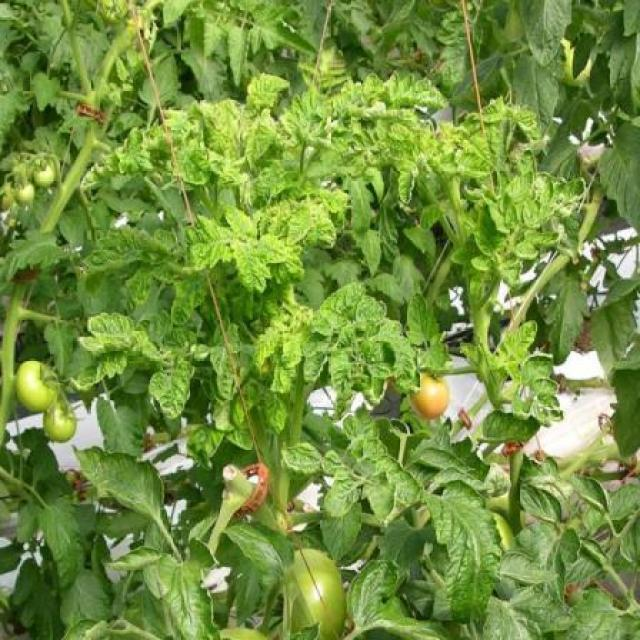Yellow Leaf Curl Virus: (364, 68, 450, 112), (77, 311, 154, 356), (324, 344, 366, 424), (367, 450, 423, 510), (147, 359, 194, 425), (401, 284, 443, 354), (82, 224, 142, 270), (184, 218, 234, 273), (387, 321, 422, 396), (169, 130, 212, 187), (280, 88, 327, 139), (67, 352, 126, 392), (361, 468, 400, 526), (502, 312, 547, 361), (471, 202, 509, 259), (171, 272, 208, 328), (241, 116, 278, 171), (186, 419, 225, 470), (521, 178, 558, 231), (208, 344, 242, 400), (244, 325, 279, 378), (234, 243, 269, 296), (118, 124, 153, 176), (247, 70, 292, 110), (282, 437, 324, 479), (364, 334, 400, 382), (334, 128, 383, 162), (390, 152, 420, 207), (325, 473, 361, 518), (283, 200, 313, 253), (510, 96, 540, 148), (323, 283, 367, 318), (356, 291, 389, 332), (303, 213, 338, 251), (453, 150, 497, 180), (520, 353, 556, 388), (419, 342, 455, 377), (307, 306, 347, 336), (506, 169, 538, 205), (474, 90, 506, 126), (279, 325, 304, 371), (223, 201, 254, 238), (316, 186, 351, 217), (415, 201, 446, 236), (258, 230, 288, 266), (263, 395, 288, 436), (523, 224, 564, 249), (149, 223, 180, 256), (499, 259, 527, 295), (360, 436, 391, 460), (329, 86, 354, 115), (514, 239, 539, 262), (450, 241, 471, 266)
